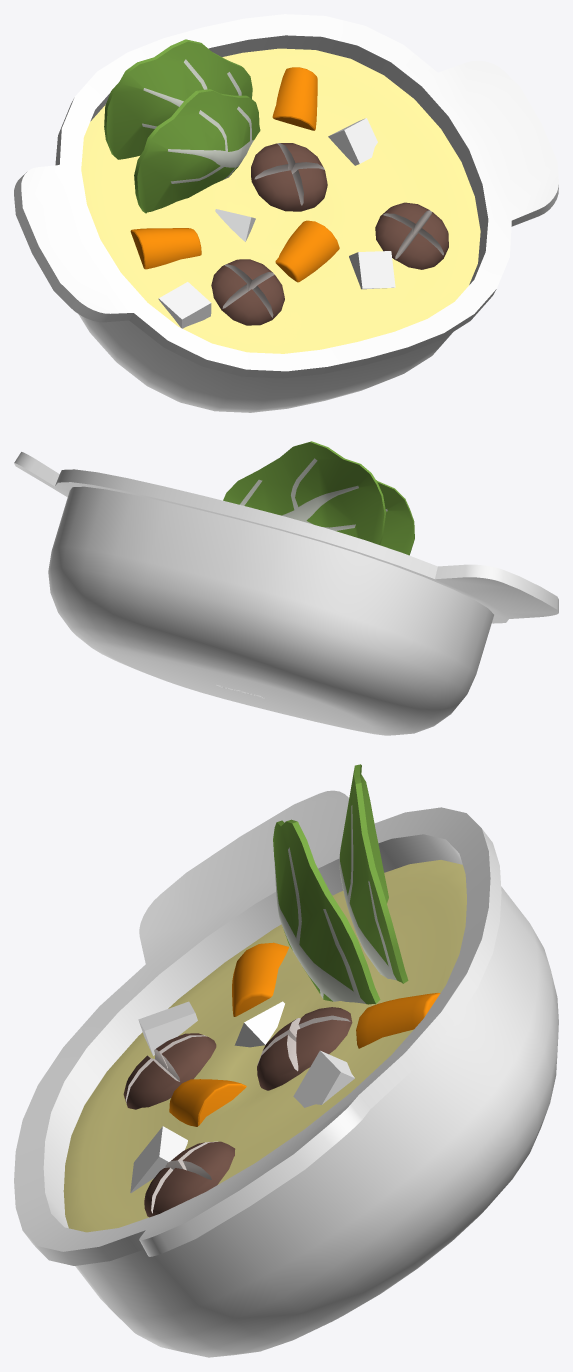
File: pot_of_food.glb
The picture shows the model from 3 angles, top to bottom: view 1: azimuth 30°, elevation 25°; view 2: azimuth 150°, elevation 25°; view 3: azimuth 270°, elevation 25°; orthographic projection. The views are drawn at different scales.
Visible parts, largest first — view 1: Circle.2218; view 2: Circle.2218; view 3: Circle.2218.
Part boxes in pixels (x1,y1,x2,y2): Circle.2218: [14, 14, 558, 412]; Circle.2218: [14, 441, 558, 735]; Circle.2218: [14, 764, 558, 1357].
Size of the model in its own units: 2.38 by 1.46 by 1.53.
1 material, 1 textured.
